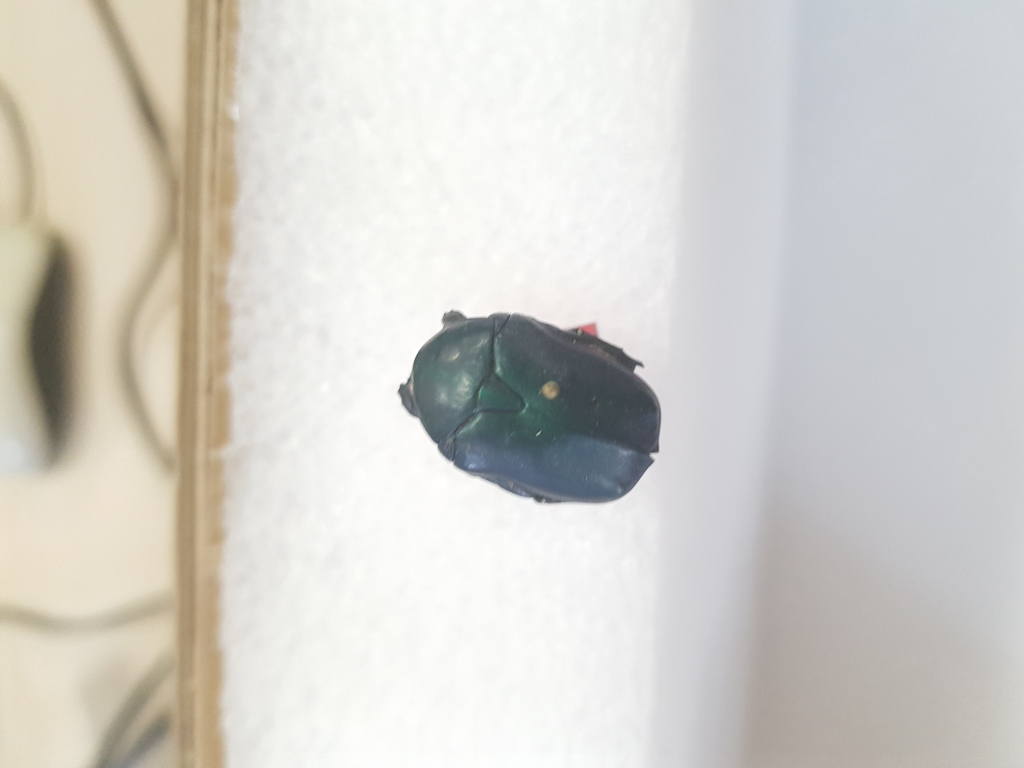Protaetia_afflicta: (379, 299, 666, 524)
